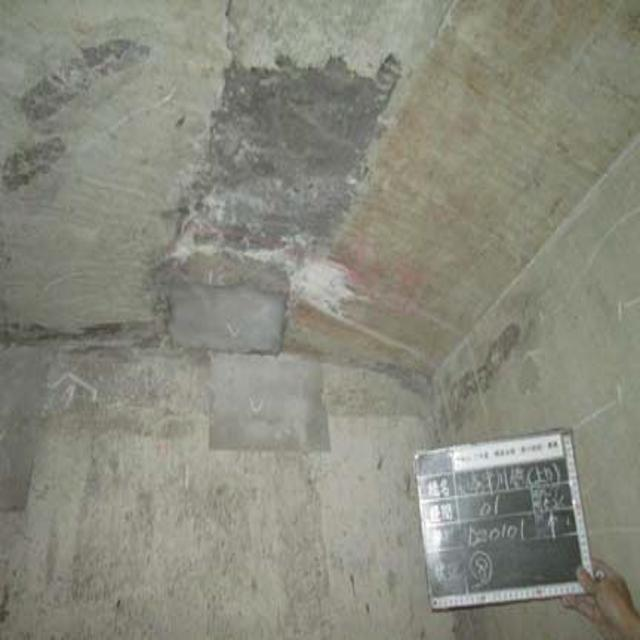freelime: (171, 226, 363, 316)
